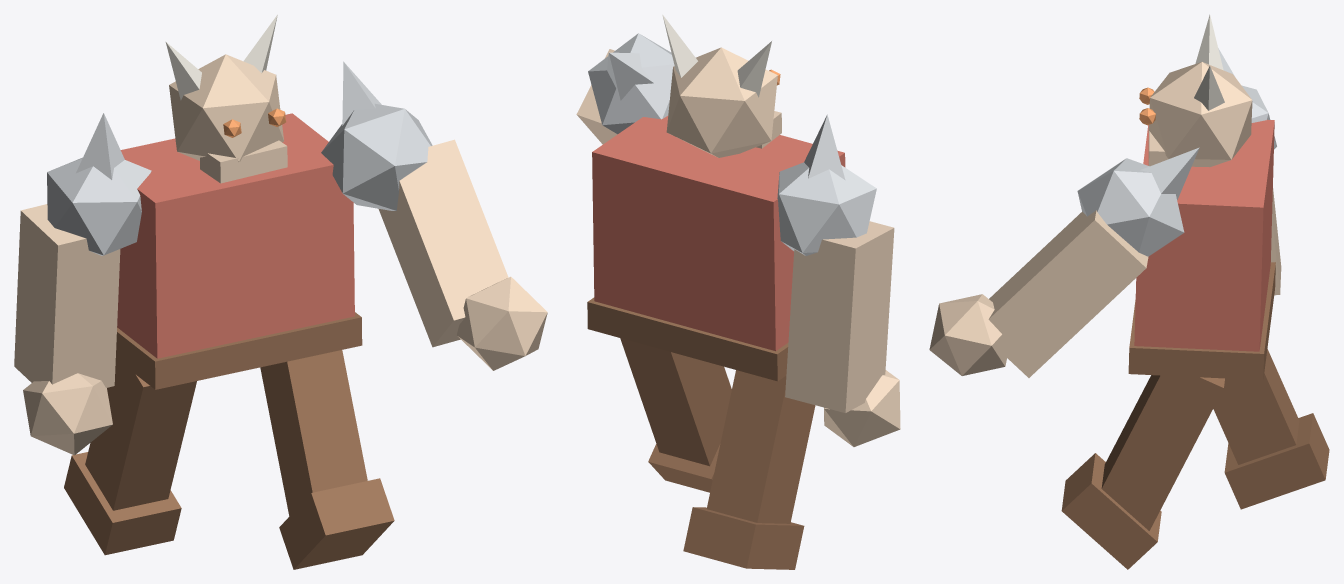
The model's file is npcpose_brute_walk_10.glb.
3 renders of one model, left to right at view 1: azimuth 30°, elevation 25°; view 2: azimuth 150°, elevation 25°; view 3: azimuth 270°, elevation 25°, orthographic. The views are drawn at different scales.
Parts seen in each view (by area): view 1: npcpose; view 2: npcpose; view 3: npcpose.
Boxes of the visible parts, bbox=[...] form: npcpose: bbox=[14, 14, 547, 569]; npcpose: bbox=[576, 14, 900, 569]; npcpose: bbox=[929, 14, 1329, 569].
Size of the model in its own units: 1.43 by 1.87 by 1.39.
